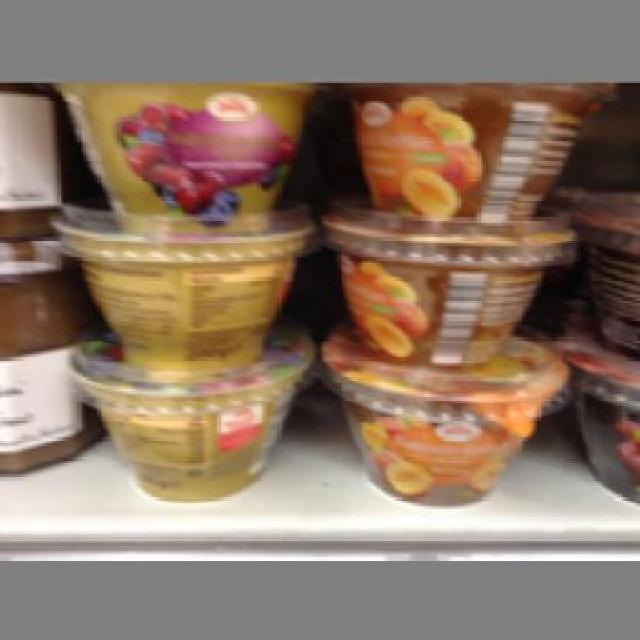Jam: (52, 200, 314, 374), (317, 197, 583, 366), (40, 80, 323, 229), (328, 80, 614, 226), (317, 343, 572, 506), (68, 340, 314, 497)
